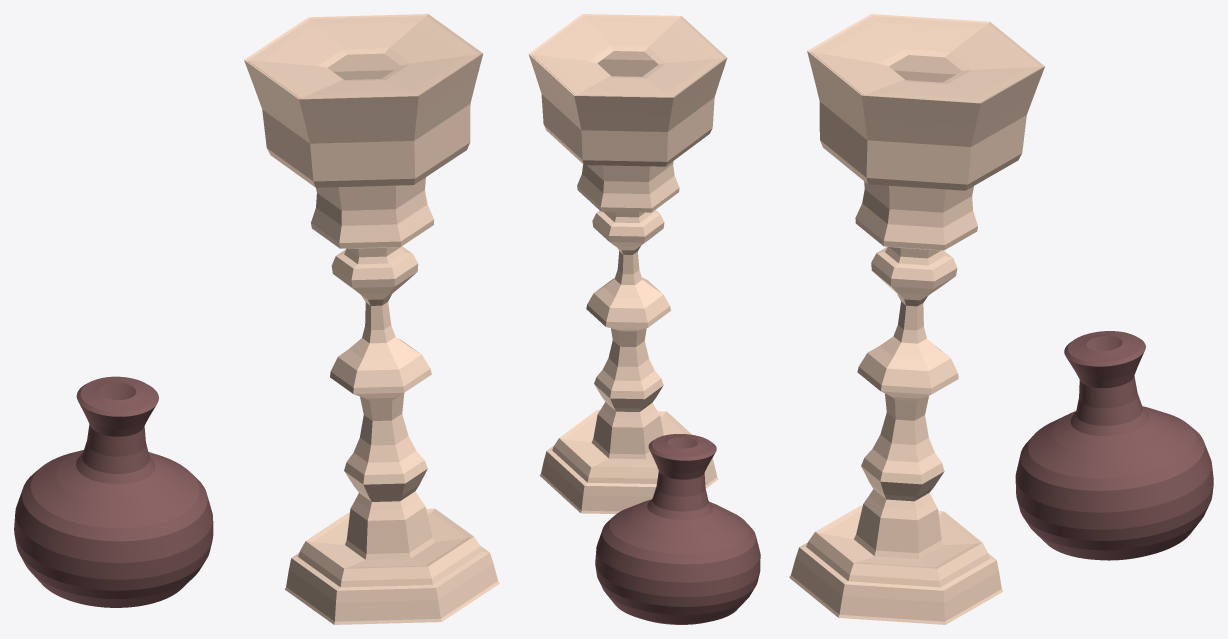
Rendered from slicers.obj.
3 renders of one model, left to right at view 1: azimuth 30°, elevation 25°; view 2: azimuth 150°, elevation 25°; view 3: azimuth 270°, elevation 25°, orthographic. The views are drawn at different scales.
Parts seen in each view (by area): view 1: r.0028, r.0018; view 2: r.0028, r.0018; view 3: r.0028, r.0018.
Boxes of the visible parts, <box> form: r.0028: <box>244,14,499,624</box>; r.0018: <box>14,376,213,607</box>; r.0028: <box>528,14,727,513</box>; r.0018: <box>595,434,760,624</box>; r.0028: <box>789,14,1044,624</box>; r.0018: <box>1015,331,1213,560</box>.
Bounding box in the file's own units: 0.5424 × 0.8863 × 0.5937.
